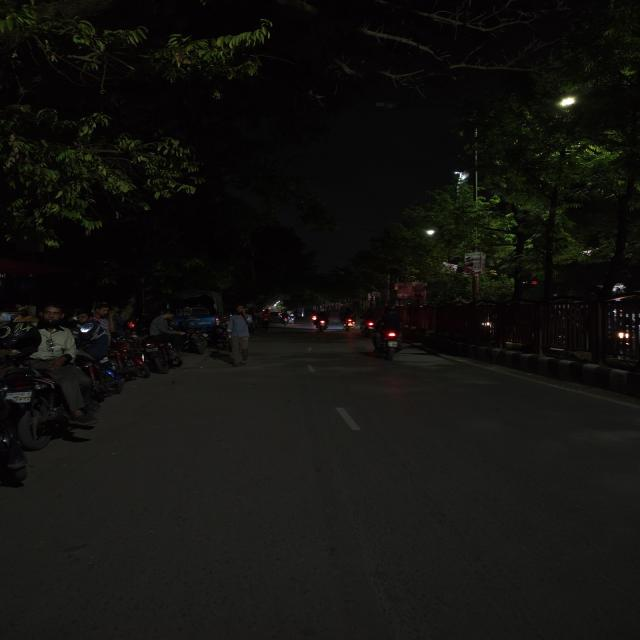motorcycle: (362, 305, 412, 362), (138, 322, 178, 384), (105, 343, 153, 379), (308, 310, 332, 332), (338, 308, 358, 332), (280, 311, 290, 327)
pedestrian: (220, 304, 256, 366), (256, 308, 272, 333)
